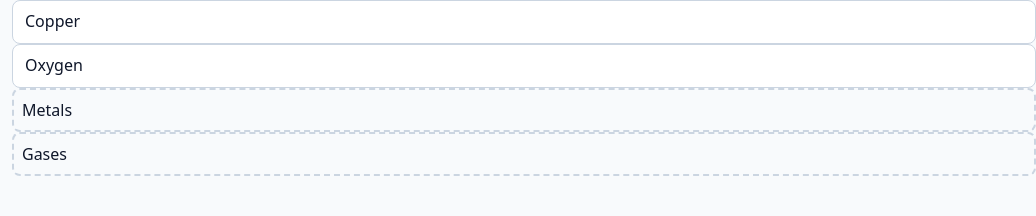
DragLayer › places an item by tapping it, then a target, and announces both steps
Step 1. Click the button "Copper" → click(53, 21), box [12, 0, 1035, 44]
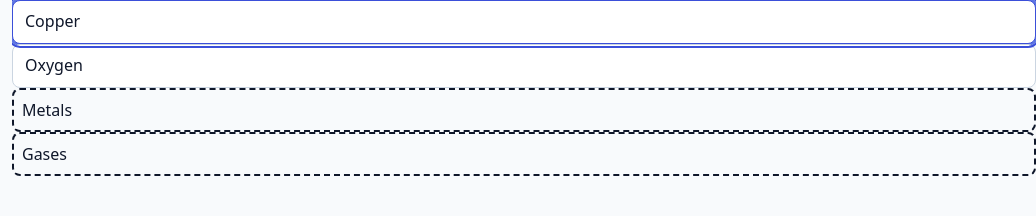
Step 2. Click the button "Metals" → click(47, 110), box [12, 88, 1035, 132]
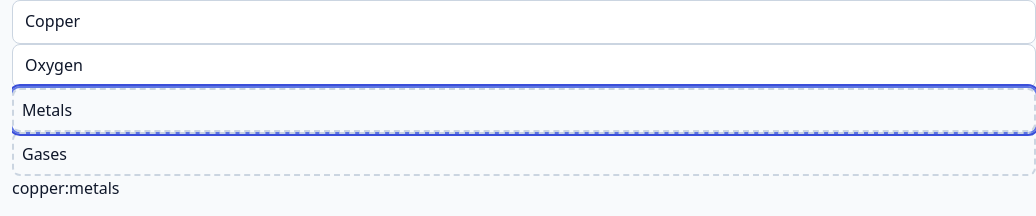
Expected: the text with test id "placements" reads "copper:metals", [12, 177, 120, 199]
